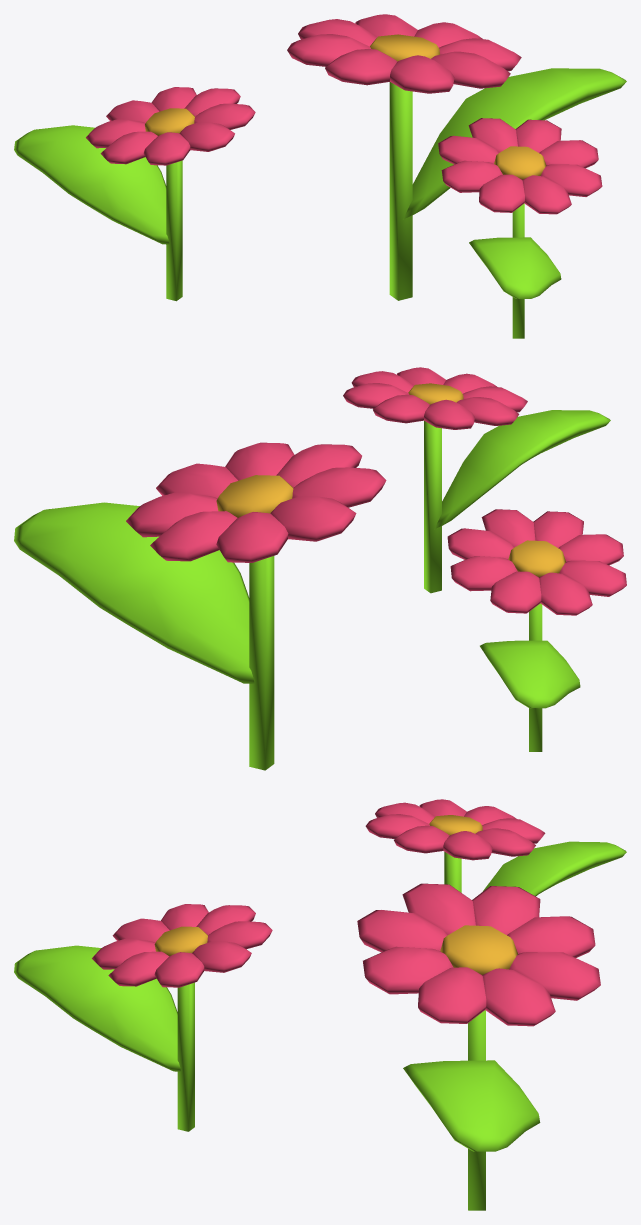
The model's file is flowers.fbx.
3 views of the same model, one above another, from view 1: azimuth 30°, elevation 25°; view 2: azimuth 150°, elevation 25°; view 3: azimuth 270°, elevation 25° (orthographic). The views are drawn at different scales.
Visible parts, largest first — view 1: Circle.004; view 2: Circle.004; view 3: Circle.004.
Part boxes in pixels (bbox=[...]): Circle.004: bbox=[14, 14, 626, 338]; Circle.004: bbox=[14, 367, 626, 770]; Circle.004: bbox=[14, 799, 626, 1210].
Size of the model in its own units: 121 by 56.73 by 110.
